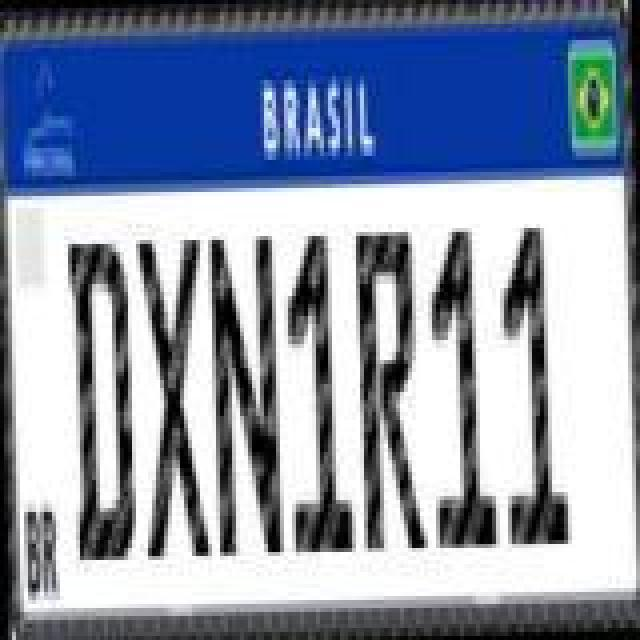1: (498, 216, 574, 552), (282, 228, 358, 556), (426, 224, 502, 552)
D: (68, 240, 140, 568)
N: (210, 232, 286, 560)
R: (356, 228, 428, 556)
X: (140, 234, 212, 566)
